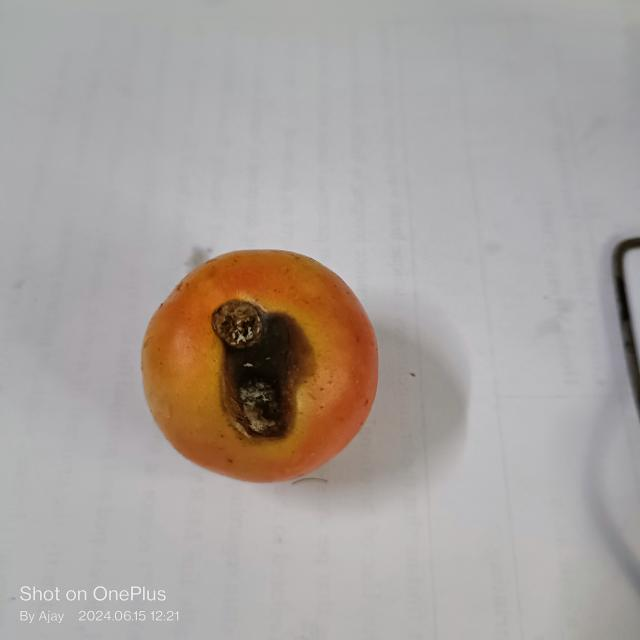Anthrocnose: (214, 299, 316, 436)
